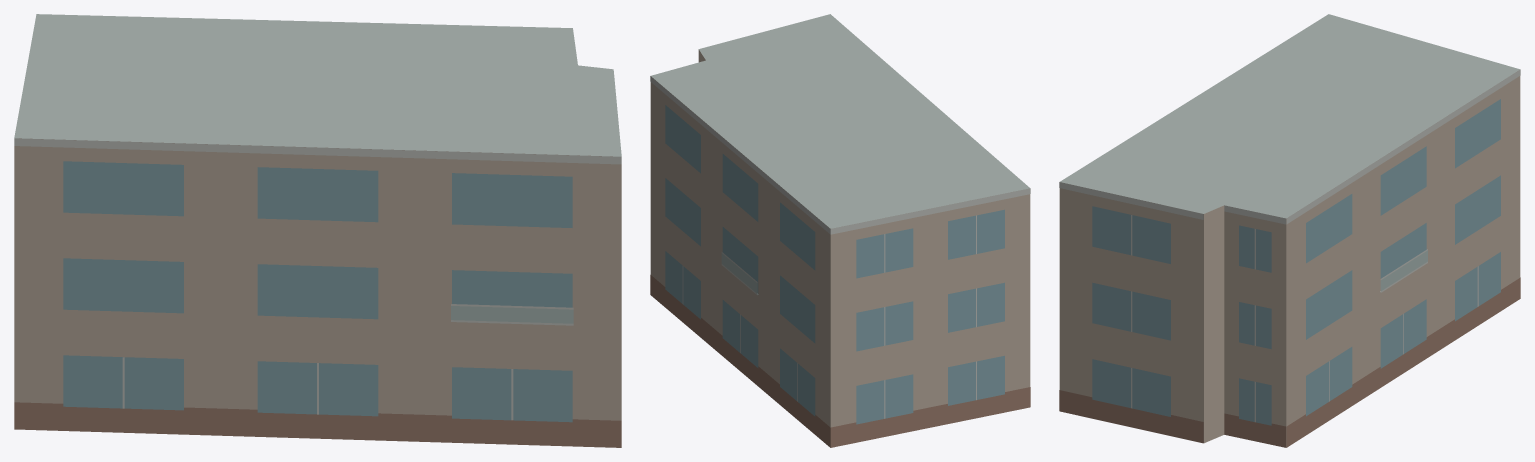
Rendered from survey-upis-32991642.glb.
The picture shows the model from 3 angles, left to right: view 1: azimuth 30°, elevation 25°; view 2: azimuth 150°, elevation 25°; view 3: azimuth 270°, elevation 25°; orthographic projection. The views are drawn at different scales.
Parts seen in each view (by area): view 1: survey-upis-32991642.tmp; view 2: survey-upis-32991642.tmp; view 3: survey-upis-32991642.tmp.
Part boxes in pixels (left/top/right/bottom): survey-upis-32991642.tmp: left=14, top=14, right=621, bottom=447; survey-upis-32991642.tmp: left=650, top=14, right=1030, bottom=447; survey-upis-32991642.tmp: left=1059, top=14, right=1520, bottom=447.
Bounding box in the file's own units: 17.5 × 9.15 × 16.67.
